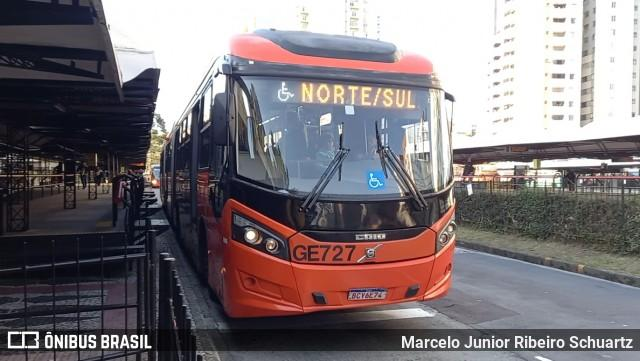NORTE SUL: (296, 78, 418, 113)
